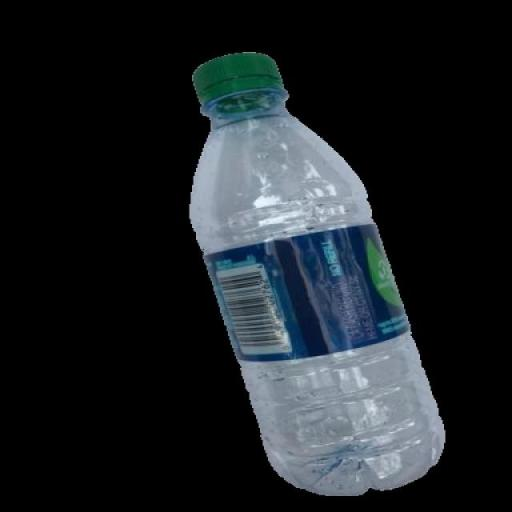plastic: (182, 50, 462, 497)
